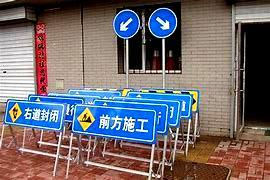sign: (74, 106, 155, 141), (4, 99, 62, 130)
